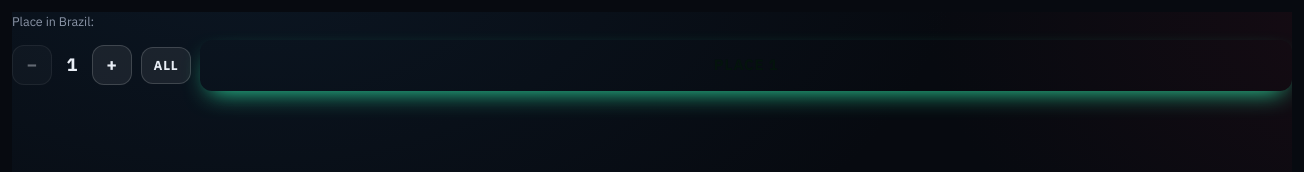
Test: ReinforceStepper › increments up to max then disables +
What coordinates should you click on to do the following:
click the button with test id "reinforce-inc"
I would click on:
 (112, 65)
Its box is [92,45,132,85].
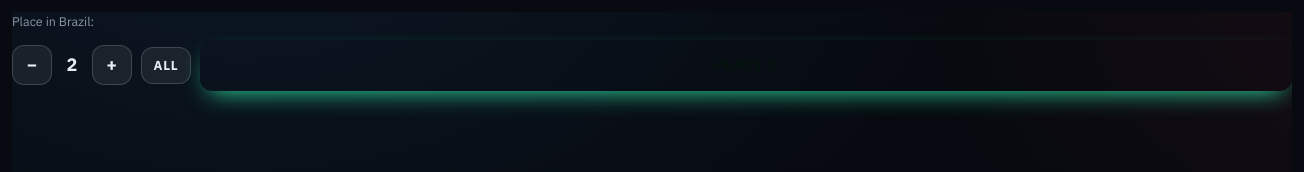
What coordinates should you click on to do the following:
click the button with test id "reinforce-inc"
I would click on:
 (112, 65)
Its box is [92,45,132,85].
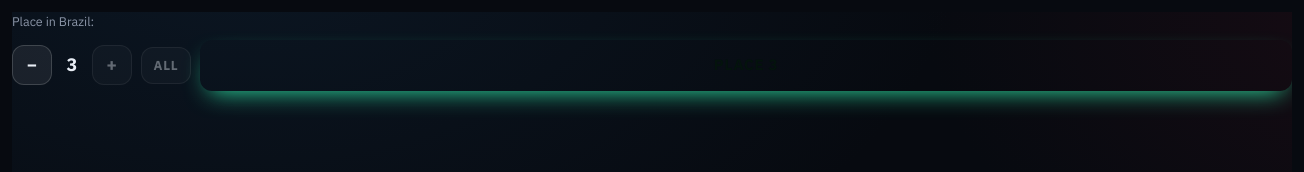
Now the text with test id "reinforce-amount" reads "3", box [66,53,77,76]
Now the button with test id "reinforce-inc" is disabled, box [92,45,132,85]
